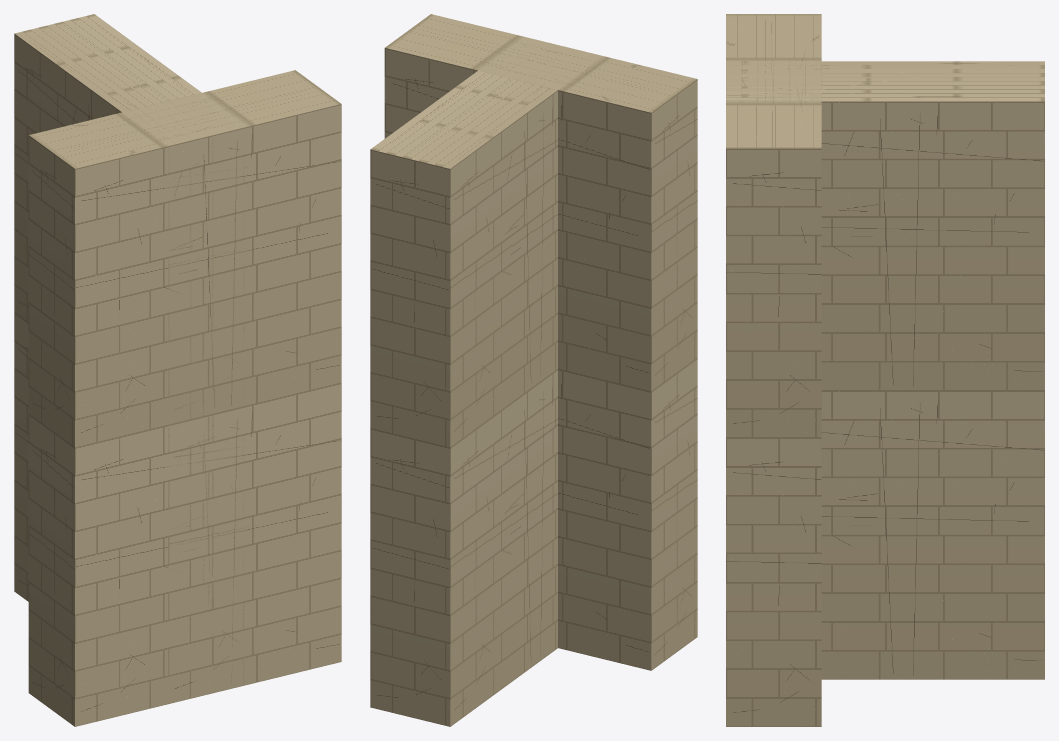
File: junction_T.obj
The picture shows the model from 3 angles, left to right: view 1: azimuth 30°, elevation 25°; view 2: azimuth 150°, elevation 25°; view 3: azimuth 270°, elevation 25°; orthographic projection. The views are drawn at different scales.
Visible parts, largest first — view 1: junction_T; view 2: junction_T; view 3: junction_T.
Part boxes in pixels (box(x1,y1,x2,y2)): junction_T: box(14, 14, 341, 726); junction_T: box(370, 14, 697, 726); junction_T: box(726, 14, 1044, 726).
Size of the model in its own units: 1 by 2 by 1.
Materials: 1 (1 with a texture image).
